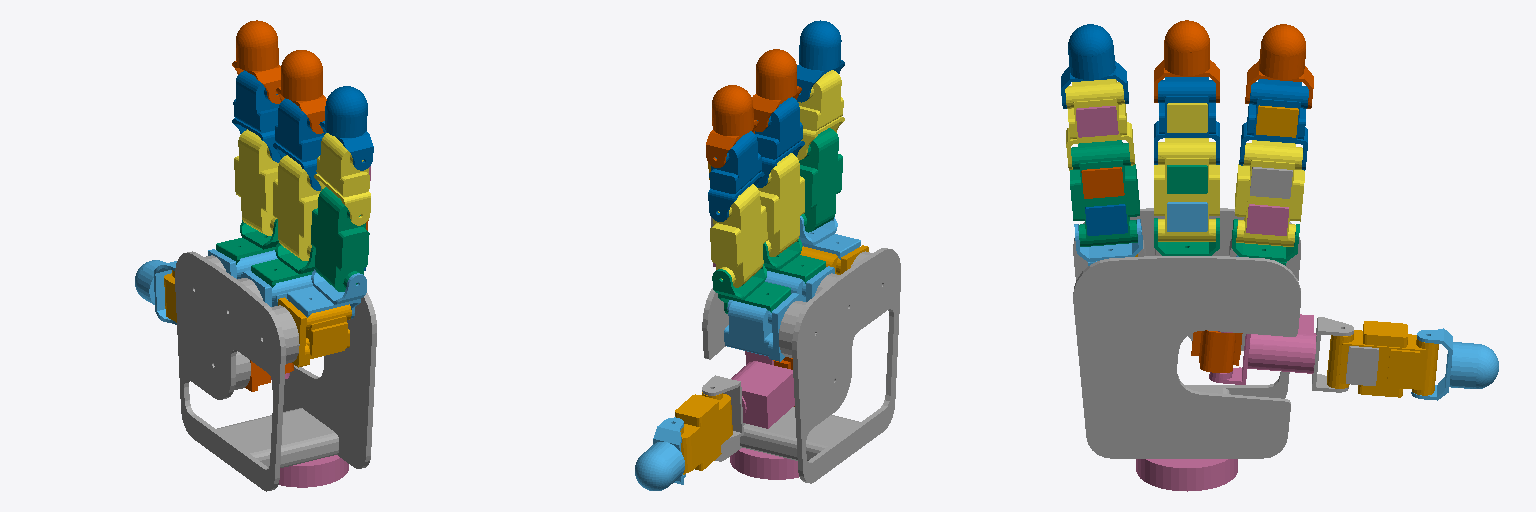
--- What the picture shows (computed from the rendered views, not written in the file) ---
3 views of the same robot in one strip: view 1: azimuth 30°, elevation 25°; view 2: azimuth 150°, elevation 25°; view 3: azimuth 270°, elevation 25° (orthographic).
Model kistar_hand with 34 links and 33 joints (16 revolute, 17 fixed), rooted at kistar_hand, posed all joints at 0.
Visible links, largest first — view 1: palm, ring_link_1, middle_link_1, index_link_1, ring_link_2, ring_tip, ring_basemotor, middle_tip, index_tip, middle_link_2, index_link_2, ring_link_0 (+6 smaller); view 2: palm, index_link_1, thumb_link_2, thumb_link_0, middle_link_1, ring_link_1, index_basemotor, index_link_2, index_tip, thumb_tip, middle_tip, ring_tip (+9 smaller); view 3: palm, thumb_link_2, ring_link_1, index_link_1, middle_link_1, thumb_link_0, thumb_tip, index_tip, ring_tip, middle_tip, mount, ring_link_2 (+18 smaller).
Boxes of the visible links, x1,y1,x2,y2 form: palm: (175, 251, 376, 491); ring_link_1: (311, 187, 369, 291); middle_link_1: (273, 155, 320, 260); index_link_1: (234, 129, 278, 235); ring_link_2: (314, 133, 370, 225); ring_tip: (319, 86, 373, 170); ring_basemotor: (278, 297, 351, 367); middle_tip: (275, 50, 326, 133); index_tip: (232, 20, 280, 103); middle_link_2: (273, 98, 323, 190); index_link_2: (232, 70, 280, 162); ring_link_0: (287, 269, 366, 318); palm: (702, 248, 900, 483); index_link_1: (710, 184, 767, 287); thumb_link_2: (675, 392, 732, 474); thumb_link_0: (731, 351, 794, 428); middle_link_1: (758, 153, 804, 256); ring_link_1: (799, 128, 842, 232); index_basemotor: (724, 293, 799, 361); index_link_2: (708, 131, 764, 221); index_tip: (706, 85, 759, 167); thumb_tip: (635, 417, 685, 490); middle_tip: (752, 49, 801, 131); ring_tip: (797, 20, 844, 102); palm: (1073, 208, 1300, 458); thumb_link_2: (1327, 321, 1438, 397); ring_link_1: (1070, 140, 1139, 246); index_link_1: (1235, 140, 1304, 246); middle_link_1: (1154, 138, 1219, 241); thumb_link_0: (1209, 314, 1316, 384); thumb_tip: (1411, 328, 1498, 400); index_tip: (1245, 24, 1313, 108); ring_tip: (1061, 24, 1128, 108); middle_tip: (1154, 20, 1219, 102); mount: (1136, 459, 1237, 491); ring_link_2: (1065, 79, 1134, 170).
Bounding box of the posed robot: 0.056 × 0.1721 × 0.1938 m (x, y, z).
33 mesh visuals loaded from 33 distinct referenced files (33 OBJ).

robot.urdf — kistar_hand:
<?xml version="1.0" encoding="UTF-8"?>
<robot name="kistar_hand" xmlns:xacro="http://www.ros.org/wiki/xacro">
  <link name="kistar_hand"/>
  <joint name="index_base_joint" type="fixed">
    <origin xyz="0. 0.02883 -0.00126" rpy="-0.0873 0. 0. "/>
    <parent link="palm"/>
    <child link="index_basemotor"/>
  </joint>
  <joint name="index_joint_0" type="revolute">
    <origin xyz="0.02325 0. 0.0047 " rpy="0.0000013 0. 0. "/>
    <parent link="index_basemotor"/>
    <child link="index_link_0"/>
    <axis xyz="1. 0. 0."/>
    <limit lower="-0.261799" upper="0.261799" effort="0.2" velocity="6.283"/>
  </joint>
  <joint name="index_joint_1" type="revolute">
    <origin xyz="0.002 0. 0.019" rpy="0. 0. 0."/>
    <parent link="index_link_0"/>
    <child link="index_link_1"/>
    <axis xyz="0. 1. 0."/>
    <limit lower="0." upper="1.5707999" effort="0.2" velocity="6.283"/>
  </joint>
  <joint name="index_joint_2" type="revolute">
    <origin xyz="0. 0. 0.0335" rpy="0. 0. 0."/>
    <parent link="index_link_1"/>
    <child link="index_link_2"/>
    <axis xyz="0. 1. 0."/>
    <limit lower="0." upper="1.5707999" effort="0.2" velocity="6.283"/>
  </joint>
  <joint name="index_joint_3" type="revolute">
    <origin xyz="0. 0. 0.0267" rpy="0. 0. 0."/>
    <parent link="index_link_2"/>
    <child link="index_tip"/>
    <axis xyz="0. 1. 0."/>
    <limit lower="0." upper="1.5707999" effort="0.2" velocity="6.283"/>
  </joint>
  <joint name="index_link_1_index_sensor_0" type="fixed">
    <origin xyz="0.00525 0. 0.00865" rpy="0. 0. 0."/>
    <parent link="index_link_1"/>
    <child link="kistar_hand_index_sensor_0"/>
  </joint>
  <joint name="index_link_1_index_sensor_1" type="fixed">
    <origin xyz="0.00525 0. 0.02485" rpy="0. 0. 0."/>
    <parent link="index_link_1"/>
    <child link="kistar_hand_index_sensor_1"/>
  </joint>
  <joint name="index_link_2_index_sensor_2" type="fixed">
    <origin xyz="0.00525 0. 0.01805" rpy="0. 0. 0."/>
    <parent link="index_link_2"/>
    <child link="kistar_hand_index_sensor_2"/>
  </joint>
  <joint name="kistar_mount_joint" type="fixed">
    <origin xyz="-0.02325 0. 0.071 " rpy="0. 0. 0."/>
    <!-- <origin xyz="-0.01 0. 0.071 " rpy="0. 0. 0."/> -->
    <parent link="mount"/>
    <child link="palm"/>
  </joint>
  <joint name="middle_base_joint" type="fixed">
    <origin xyz="0. 0. 0." rpy="0. 0. 0."/>
    <parent link="palm"/>
    <child link="middle_basemotor"/>
  </joint>
  <joint name="middle_joint_0" type="revolute">
    <origin xyz="0.02325 0. 0.0047 " rpy="0. 0. 0."/>
    <parent link="middle_basemotor"/>
    <child link="middle_link_0"/>
    <axis xyz="1. 0. 0."/>
    <limit lower="-0.261799" upper="0.261799" effort="0.2" velocity="6.283"/>
  </joint>
  <joint name="middle_joint_1" type="revolute">
    <origin xyz="0.002 0. 0.019" rpy="0. 0. 0."/>
    <parent link="middle_link_0"/>
    <child link="middle_link_1"/>
    <axis xyz="0. 1. 0."/>
    <limit lower="0." upper="1.5707999" effort="0.2" velocity="6.283"/>
  </joint>
  <joint name="middle_joint_2" type="revolute">
    <origin xyz="0. 0. 0.0335" rpy="0. 0. 0."/>
    <parent link="middle_link_1"/>
    <child link="middle_link_2"/>
    <axis xyz="0. 1. 0."/>
    <limit lower="0." upper="1.5707999" effort="0.2" velocity="6.283"/>
  </joint>
  <joint name="middle_joint_3" type="revolute">
    <origin xyz="0. 0. 0.0267" rpy="0. 0. 0."/>
    <parent link="middle_link_2"/>
    <child link="middle_tip"/>
    <axis xyz="0. 1. 0."/>
    <limit lower="0." upper="1.5707999" effort="0.2" velocity="6.283"/>
  </joint>
  <joint name="middle_link_1_middle_sensor_0" type="fixed">
    <origin xyz="0.00525 0. 0.00865" rpy="0. 0. 0."/>
    <parent link="middle_link_1"/>
    <child link="kistar_hand_middle_sensor_0"/>
  </joint>
  <joint name="middle_link_1_middle_sensor_1" type="fixed">
    <origin xyz="0.00525 0. 0.02485" rpy="0. 0. 0."/>
    <parent link="middle_link_1"/>
    <child link="kistar_hand_middle_sensor_1"/>
  </joint>
  <joint name="middle_link_2_middle_sensor_2" type="fixed">
    <origin xyz="0.00525 0. 0.01805" rpy="0. 0. 0."/>
    <parent link="middle_link_2"/>
    <child link="kistar_hand_middle_sensor_2"/>
  </joint>
  <joint name="ring_base_joint" type="fixed">
    <origin xyz="0. -0.02883 -0.00126" rpy="0.0873 0. 0. "/>
    <parent link="palm"/>
    <child link="ring_basemotor"/>
  </joint>
  <joint name="ring_joint_0" type="revolute">
    <origin xyz="0.02325 -0. 0.0047 " rpy="-0.0000013 0. 0. "/>
    <parent link="ring_basemotor"/>
    <child link="ring_link_0"/>
    <axis xyz="1. 0. 0."/>
    <limit lower="-0.261799" upper="0.261799" effort="0.2" velocity="6.283"/>
  </joint>
  <joint name="ring_joint_1" type="revolute">
    <origin xyz="0.002 0. 0.019" rpy="0. 0. 0."/>
    <parent link="ring_link_0"/>
    <child link="ring_link_1"/>
    <axis xyz="0. 1. 0."/>
    <limit lower="0." upper="1.5707999" effort="0.2" velocity="6.283"/>
  </joint>
  <joint name="ring_joint_2" type="revolute">
    <origin xyz="0. -0. 0.0335" rpy="0. 0. 0."/>
    <parent link="ring_link_1"/>
    <child link="ring_link_2"/>
    <axis xyz="0. 1. 0."/>
    <limit lower="0." upper="1.5707999" effort="0.2" velocity="6.283"/>
  </joint>
  <joint name="ring_joint_3" type="revolute">
    <origin xyz="0. -0. 0.0267" rpy="0. 0. 0."/>
    <parent link="ring_link_2"/>
    <child link="ring_tip"/>
    <axis xyz="0. 1. 0."/>
    <limit lower="0." upper="1.5707999" effort="0.2" velocity="6.283"/>
  </joint>
  <joint name="ring_link_1_ring_sensor_0" type="fixed">
    <origin xyz="0.00525 -0. 0.00865" rpy="0. 0. 0."/>
    <parent link="ring_link_1"/>
    <child link="kistar_hand_ring_sensor_0"/>
  </joint>
  <joint name="ring_link_1_ring_sensor_1" type="fixed">
    <origin xyz="0.00525 -0. 0.02485" rpy="0. 0. 0."/>
    <parent link="ring_link_1"/>
    <child link="kistar_hand_ring_sensor_1"/>
  </joint>
  <joint name="ring_link_2_ring_sensor_2" type="fixed">
    <origin xyz="0.00525 -0. 0.01805" rpy="0. 0. 0."/>
    <parent link="ring_link_2"/>
    <child link="kistar_hand_ring_sensor_2"/>
  </joint>
  <joint name="root_joint" type="fixed">
    <origin xyz="0. 0. 0." rpy="0. 0. 0."/>
    <parent link="kistar_hand"/>
    <child link="mount"/>
  </joint>
  <joint name="thumb_base_joint" type="fixed">
    <origin xyz="0. 0.01224 -0.02988" rpy="-0.0873 0. 0. "/>
    <parent link="palm"/>
    <child link="thumb_basemotor"/>
  </joint>
  <joint name="thumb_joint_0" type="revolute">
    <origin xyz="0.0197 0.002 0. " rpy="-1.5707986 0. 0. "/>
    <parent link="thumb_basemotor"/>
    <child link="thumb_link_0"/>
    <axis xyz="0. 1. 0."/>
    <limit lower="0." upper="1.5707999" effort="0.2" velocity="6.283"/>
  </joint>
  <joint name="thumb_joint_1" type="revolute">
    <origin xyz="-0.002 0. 0.036" rpy="-0.0000013 0. 0. "/>
    <parent link="thumb_link_0"/>
    <child link="thumb_link_1"/>
    <axis xyz="0. 0. 1."/>
    <limit lower="-1.5707999" upper="1.5707999" effort="0.2" velocity="6.283"/>
  </joint>
  <joint name="thumb_joint_2" type="revolute">
    <origin xyz="0.002 -0. 0.0102" rpy="0. 0. 0."/>
    <parent link="thumb_link_1"/>
    <child link="thumb_link_2"/>
    <axis xyz="0. 1. 0."/>
    <limit lower="0." upper="1.5707999" effort="0.2" velocity="6.283"/>
  </joint>
  <joint name="thumb_joint_3" type="revolute">
    <origin xyz="0. 0. 0.0335" rpy="0. 0. 0."/>
    <parent link="thumb_link_2"/>
    <child link="thumb_tip"/>
    <axis xyz="0. 1. 0."/>
    <limit lower="0." upper="1.5707999" effort="0.2" velocity="6.283"/>
  </joint>
  <joint name="thumb_link_2_thumb_sensor_0" type="fixed">
    <origin xyz="0.00525 0. 0.00865" rpy="0. 0. 0."/>
    <parent link="thumb_link_2"/>
    <child link="kistar_hand_thumb_sensor_0"/>
  </joint>
  <joint name="thumb_link_2_thumb_sensor_1" type="fixed">
    <origin xyz="0.00525 0. 0.02485" rpy="0. 0. 0."/>
    <parent link="thumb_link_2"/>
    <child link="kistar_hand_thumb_sensor_1"/>
  </joint>
  <link name="index_basemotor">
    <inertial>
      <origin xyz="0.01338 0.00095 -0.00207" rpy="0. 0. 0."/>
      <mass value="0.01904"/>
      <inertia ixx="0.0000012" ixy="0.0000003" ixz="-0.0000006" iyy="0.0000055" iyz="-0." izz="0.0000051"/>
    </inertial>
    <visual>
      <origin xyz="0. -0. 0." rpy="0.0000013 0. 0. "/>
      <geometry>
        <mesh filename="meshes/index_basemotor_visuals.obj" scale="1. 1. 1."/>
      </geometry>
    </visual>
    <!-- <collision>
      <origin xyz="0. -0. 0." rpy="0.0000013 0. 0. "/>
      <geometry>
        <mesh filename="meshes/index_basemotor_collisions.obj" scale="1. 1. 1."/>
      </geometry> -->
    <!-- </collision> -->
  </link>
  <link name="index_link_0">
    <inertial>
      <origin xyz="-0.00353 0. 0.00948" rpy="0. 0. 0."/>
      <mass value="0.00473"/>
      <inertia ixx="0.0000008" ixy="0." ixz="-0.0000001" iyy="0.0000009" iyz="0." izz="0.0000006"/>
    </inertial>
    <visual>
      <origin xyz="0. 0. 0." rpy="0. 0. 0."/>
      <geometry>
        <mesh filename="meshes/index_link_0_visuals.obj" scale="1. 1. 1."/>
      </geometry>
    </visual>
    <!-- <collision>
      <origin xyz="0. 0. 0." rpy="0. 0. 0."/>
      <geometry>
        <mesh filename="meshes/index_link_0_collisions.obj" scale="1. 1. 1."/>
      </geometry>
    </collision> -->
  </link>
  <link name="index_link_1">
    <inertial>
      <origin xyz="-0.00166 0. 0.01675" rpy="0. 0. 0."/>
      <mass value="0.03549"/>
      <inertia ixx="0.0000161" ixy="0." ixz="-0.000001" iyy="0.0000151" iyz="0." izz="0.0000022"/>
    </inertial>
    <visual>
      <origin xyz="0. 0. 0." rpy="0. 0. 0."/>
      <geometry>
        <mesh filename="meshes/index_link_1_visuals.obj" scale="1. 1. 1."/>
      </geometry>
    </visual>
    <collision>
      <origin xyz="0. 0. 0." rpy="0. 0. 0."/>
      <geometry>
        <mesh filename="meshes/index_link_1_collisions.obj" scale="1. 1. 1."/>
      </geometry>
    </collision>
  </link>
  <link name="index_link_2">
    <inertial>
      <origin xyz="-0.00154 0.00021 0.01842" rpy="0. 0. 0."/>
      <mass value="0.01827"/>
      <inertia ixx="0.000008" ixy="-0." ixz="-0.0000005" iyy="0.0000075" iyz="0." izz="0.0000011"/>
    </inertial>
    <visual>
      <origin xyz="0. 0. 0." rpy="0. 0. 0."/>
      <geometry>
        <mesh filename="meshes/index_link_2_visuals.obj" scale="1. 1. 1."/>
      </geometry>
    </visual>
    <collision>
      <origin xyz="0. 0. 0." rpy="0. 0. 0."/>
      <geometry>
        <mesh filename="meshes/index_link_2_collisions.obj" scale="1. 1. 1."/>
      </geometry>
    </collision>
  </link>
  <link name="index_tip">
    <inertial>
      <origin xyz="-0.0019 0. 0.01626" rpy="0. 0. 0."/>
      <mass value="0.00719"/>
      <inertia ixx="0.0000024" ixy="0." ixz="-0.0000002" iyy="0.0000024" iyz="0." izz="0.0000004"/>
    </inertial>
    <visual>
      <origin xyz="0. 0. -0." rpy="0. 0. 0."/>
      <geometry>
        <mesh filename="meshes/index_tip_visuals.obj" scale="1. 1. 1."/>
      </geometry>
    </visual>
    <collision>
      <origin xyz="0. 0. -0." rpy="0. 0. 0."/>
      <geometry>
        <mesh filename="meshes/index_tip_collisions.obj" scale="1. 1. 1."/>
      </geometry>
    </collision>
  </link>
  <link name="kistar_hand_index_sensor_0">
    <visual>
      <origin xyz="0. 0. -0." rpy="0. 0. 0."/>
      <geometry>
        <mesh filename="meshes/kistar_hand_index_sensor_0_visuals.obj" scale="1. 1. 1."/>
      </geometry>
    </visual>
    <collision>
      <origin xyz="0. 0. -0." rpy="0. 0. 0."/>
      <geometry>
        <mesh filename="meshes/kistar_hand_index_sensor_0_collisions.obj" scale="1. 1. 1."/>
      </geometry>
    </collision>
  </link>
  <link name="kistar_hand_index_sensor_1">
    <visual>
      <origin xyz="0. 0. 0." rpy="0. 0. 0."/>
      <geometry>
        <mesh filename="meshes/kistar_hand_index_sensor_1_visuals.obj" scale="1. 1. 1."/>
      </geometry>
    </visual>
    <collision>
      <origin xyz="0. 0. 0." rpy="0. 0. 0."/>
      <geometry>
        <mesh filename="meshes/kistar_hand_index_sensor_1_collisions.obj" scale="1. 1. 1."/>
      </geometry>
    </collision>
  </link>
  <link name="kistar_hand_index_sensor_2">
    <visual>
      <origin xyz="0. 0. -0." rpy="0. 0. 0."/>
      <geometry>
        <mesh filename="meshes/kistar_hand_index_sensor_2_visuals.obj" scale="1. 1. 1."/>
      </geometry>
    </visual>
    <collision>
      <origin xyz="0. 0. -0." rpy="0. 0. 0."/>
      <geometry>
        <mesh filename="meshes/kistar_hand_index_sensor_2_collisions.obj" scale="1. 1. 1."/>
      </geometry>
    </collision>
  </link>
  <link name="kistar_hand_middle_sensor_0">
    <visual>
      <origin xyz="0. 0. 0." rpy="0. 0. 0."/>
      <geometry>
        <mesh filename="meshes/kistar_hand_middle_sensor_0_visuals.obj" scale="1. 1. 1."/>
      </geometry>
    </visual>
    <collision>
      <origin xyz="0. 0. 0." rpy="0. 0. 0."/>
      <geometry>
        <mesh filename="meshes/kistar_hand_middle_sensor_0_collisions.obj" scale="1. 1. 1."/>
      </geometry>
    </collision>
  </link>
  <link name="kistar_hand_middle_sensor_1">
    <visual>
      <origin xyz="0. 0. 0." rpy="0. 0. 0."/>
      <geometry>
        <mesh filename="meshes/kistar_hand_middle_sensor_1_visuals.obj" scale="1. 1. 1."/>
      </geometry>
    </visual>
    <collision>
      <origin xyz="0. 0. 0." rpy="0. 0. 0."/>
      <geometry>
        <mesh filename="meshes/kistar_hand_middle_sensor_1_collisions.obj" scale="1. 1. 1."/>
      </geometry>
    </collision>
  </link>
  <link name="kistar_hand_middle_sensor_2">
    <visual>
      <origin xyz="0. 0. 0." rpy="0. 0. 0."/>
      <geometry>
        <mesh filename="meshes/kistar_hand_middle_sensor_2_visuals.obj" scale="1. 1. 1."/>
      </geometry>
    </visual>
    <collision>
      <origin xyz="0. 0. 0." rpy="0. 0. 0."/>
      <geometry>
        <mesh filename="meshes/kistar_hand_middle_sensor_2_collisions.obj" scale="1. 1. 1."/>
      </geometry>
    </collision>
  </link>
  <link name="kistar_hand_ring_sensor_0">
    <visual>
      <origin xyz="0. -0. -0." rpy="0. 0. 0."/>
      <geometry>
        <mesh filename="meshes/kistar_hand_ring_sensor_0_visuals.obj" scale="1. 1. 1."/>
      </geometry>
    </visual>
    <collision>
      <origin xyz="0. -0. -0." rpy="0. 0. 0."/>
      <geometry>
        <mesh filename="meshes/kistar_hand_ring_sensor_0_collisions.obj" scale="1. 1. 1."/>
      </geometry>
    </collision>
  </link>
  <link name="kistar_hand_ring_sensor_1">
    <visual>
      <origin xyz="0. -0. 0." rpy="0. 0. 0."/>
      <geometry>
        <mesh filename="meshes/kistar_hand_ring_sensor_1_visuals.obj" scale="1. 1. 1."/>
      </geometry>
    </visual>
    <collision>
      <origin xyz="0. -0. 0." rpy="0. 0. 0."/>
      <geometry>
        <mesh filename="meshes/kistar_hand_ring_sensor_1_collisions.obj" scale="1. 1. 1."/>
      </geometry>
    </collision>
  </link>
  <link name="kistar_hand_ring_sensor_2">
    <visual>
      <origin xyz="0. -0. -0." rpy="0. 0. 0."/>
      <geometry>
        <mesh filename="meshes/kistar_hand_ring_sensor_2_visuals.obj" scale="1. 1. 1."/>
      </geometry>
    </visual>
    <collision>
      <origin xyz="0. -0. -0." rpy="0. 0. 0."/>
      <geometry>
        <mesh filename="meshes/kistar_hand_ring_sensor_2_collisions.obj" scale="1. 1. 1."/>
      </geometry>
    </collision>
  </link>
  <link name="kistar_hand_thumb_sensor_0">
    <visual>
      <origin xyz="0. 0. 0." rpy="0. 0. 0."/>
      <geometry>
        <mesh filename="meshes/kistar_hand_thumb_sensor_0_visuals.obj" scale="1. 1. 1."/>
      </geometry>
    </visual>
    <collision>
      <origin xyz="0. 0. 0." rpy="0. 0. 0."/>
      <geometry>
        <mesh filename="meshes/kistar_hand_thumb_sensor_0_collisions.obj" scale="1. 1. 1."/>
      </geometry>
    </collision>
  </link>
  <link name="kistar_hand_thumb_sensor_1">
    <visual>
      <origin xyz="0. 0. 0." rpy="0. 0. 0."/>
      <geometry>
        <mesh filename="meshes/kistar_hand_thumb_sensor_1_visuals.obj" scale="1. 1. 1."/>
      </geometry>
    </visual>
    <collision>
      <origin xyz="0. 0. 0." rpy="0. 0. 0."/>
      <geometry>
        <mesh filename="meshes/kistar_hand_thumb_sensor_1_collisions.obj" scale="1. 1. 1."/>
      </geometry>
    </collision>
  </link>
  <link name="middle_basemotor">
    <inertial>
      <origin xyz="0.01338 0.00095 -0.00207" rpy="0. 0. 0."/>
      <mass value="0.01904"/>
      <inertia ixx="0.0000012" ixy="0.0000003" ixz="-0.0000006" iyy="0.0000055" iyz="-0." izz="0.0000051"/>
    </inertial>
    <visual>
      <origin xyz="0. 0. 0." rpy="0. 0. 0."/>
      <geometry>
        <mesh filename="meshes/middle_basemotor_visuals.obj" scale="1. 1. 1."/>
      </geometry>
    </visual>
    <collision>
      <origin xyz="0. 0. 0." rpy="0. 0. 0."/>
      <geometry>
        <mesh filename="meshes/middle_basemotor_collisions.obj" scale="1. 1. 1."/>
      </geometry>
    </collision>
  </link>
  <link name="middle_link_0">
    <inertial>
      <origin xyz="-0.00353 0. 0.00948" rpy="0. 0. 0."/>
      <mass value="0.00473"/>
      <inertia ixx="0.0000008" ixy="0." ixz="-0.0000001" iyy="0.0000009" iyz="0." izz="0.0000006"/>
    </inertial>
    <visual>
      <origin xyz="0. 0. 0." rpy="0. 0. 0."/>
      <geometry>
        <mesh filename="meshes/middle_link_0_visuals.obj" scale="1. 1. 1."/>
      </geometry>
    </visual>
    <collision>
      <origin xyz="0. 0. 0." rpy="0. 0. 0."/>
      <geometry>
        <mesh filename="meshes/middle_link_0_collisions.obj" scale="1. 1. 1."/>
      </geometry>
    </collision>
  </link>
  <link name="middle_link_1">
    <inertial>
      <origin xyz="-0.00166 0. 0.01675" rpy="0. 0. 0."/>
      <mass value="0.03549"/>
      <inertia ixx="0.0000161" ixy="0." ixz="-0.000001" iyy="0.0000151" iyz="0." izz="0.0000022"/>
    </inertial>
    <visual>
      <origin xyz="0. 0. 0." rpy="0. 0. 0."/>
      <geometry>
        <mesh filename="meshes/middle_link_1_visuals.obj" scale="1. 1. 1."/>
      </geometry>
    </visual>
    <collision>
      <origin xyz="0. 0. 0." rpy="0. 0. 0."/>
      <geometry>
        <mesh filename="meshes/middle_link_1_collisions.obj" scale="1. 1. 1."/>
      </geometry>
    </collision>
  </link>
  <link name="middle_link_2">
    <inertial>
      <origin xyz="-0.00154 0.00021 0.01842" rpy="0. 0. 0."/>
      <mass value="0.01827"/>
      <inertia ixx="0.000008" ixy="-0." ixz="-0.0000005" iyy="0.0000075" iyz="0." izz="0.0000011"/>
    </inertial>
    <visual>
      <origin xyz="0. 0. 0." rpy="0. 0. 0."/>
      <geometry>
        <mesh filename="meshes/middle_link_2_visuals.obj" scale="1. 1. 1."/>
      </geometry>
    </visual>
    <collision>
      <origin xyz="0. 0. 0." rpy="0. 0. 0."/>
      <geometry>
        <mesh filename="meshes/middle_link_2_collisions.obj" scale="1. 1. 1."/>
      </geometry>
    </collision>
  </link>
  <link name="middle_tip">
    <inertial>
      <origin xyz="-0.0019 0. 0.01626" rpy="0. 0. 0."/>
      <mass value="0.00719"/>
      <inertia ixx="0.0000024" ixy="0." ixz="-0.0000002" iyy="0.0000024" iyz="0." izz="0.0000004"/>
    </inertial>
    <visual>
      <origin xyz="0. 0. 0." rpy="0. 0. 0."/>
      <geometry>
        <mesh filename="meshes/middle_tip_visuals.obj" scale="1. 1. 1."/>
      </geometry>
    </visual>
    <collision>
      <origin xyz="0. 0. 0." rpy="0. 0. 0."/>
      <geometry>
        <mesh filename="meshes/middle_tip_collisions.obj" scale="1. 1. 1."/>
      </geometry>
    </collision>
  </link>
  <link name="mount">
    <visual>
      <origin xyz="0. 0. 0." rpy="0. 0. 0."/>
      <geometry>
        <mesh filename="meshes/mount_visuals.obj" scale="1. 1. 1."/>
      </geometry>
    </visual>
    <collision>
      <origin xyz="0. 0. 0." rpy="0. 0. 0."/>
      <geometry>
        <mesh filename="meshes/mount_collisions.obj" scale="1. 1. 1."/>
      </geometry>
    </collision>
  </link>
  <link name="palm">
    <inertial>
      <origin xyz="-0.01669 0.00079 -0.02862" rpy="0. 0. 0."/>
      <mass value="0.15476"/>
      <inertia ixx="0.0003271" ixy="-0.0000105" ixz="0.0000539" iyy="0.000351" iyz="-0.0000034" izz="0.0001632"/>
    </inertial>
    <visual>
      <origin xyz="0. 0. 0." rpy="0. 0. 0."/>
      <geometry>
        <mesh filename="meshes/palm_visuals.obj" scale="1. 1. 1."/>
      </geometry>
    </visual>
    <collision>
      <!-- <origin xyz="0. 0. 0." rpy="0. 0. 45."/> -->
      <origin xyz="0. 0. 0." rpy="0. 0. 0."/>
      <geometry>
        <!-- <mesh filename="meshes/fr3_hand_collisions.obj" scale="5 1.5 3"/> -->
        <mesh filename="meshes/palm_visuals.obj" scale="1 1 1"/>
      </geometry>
    </collision>

  </link>
  <link name="ring_basemotor">
    <inertial>
      <origin xyz="0.01338 0.00095 -0.00207" rpy="0. 0. 0."/>
      <mass value="0.01904"/>
      <inertia ixx="0.0000012" ixy="0.0000003" ixz="-0.0000006" iyy="0.0000055" iyz="-0." izz="0.0000051"/>
    </inertial>
    <visual>
      <origin xyz="0. 0. 0." rpy="-0.0000013 0. 0. "/>
      <geometry>
        <mesh filename="meshes/ring_basemotor_visuals.obj" scale="1. 1. 1."/>
      </geometry>
    </visual>
    <collision>
      <origin xyz="0. 0. 0." rpy="-0.0000013 0. 0. "/>
      <geometry>
        <mesh filename="meshes/ring_basemotor_collisions.obj" scale="1. 1. 1."/>
      </geometry>
    </collision>
  </link>
  <link name="ring_link_0">
    <inertial>
      <origin xyz="-0.00353 0. 0.00948" rpy="0. 0. 0."/>
      <mass value="0.00473"/>
      <inertia ixx="0.0000008" ixy="0." ixz="-0.0000001" iyy="0.0000009" iyz="0." izz="0.0000006"/>
    </inertial>
    <visual>
      <origin xyz="0. 0. 0." rpy="0. 0. 0."/>
      <geometry>
        <mesh filename="meshes/ring_link_0_visuals.obj" scale="1. 1. 1."/>
      </geometry>
    </visual>
    <collision>
      <origin xyz="0. 0. 0." rpy="0. 0. 0."/>
      <geometry>
        <mesh filename="meshes/ring_link_0_collisions.obj" scale="1. 1. 1."/>
      </geometry>
    </collision>
  </link>
  <link name="ring_link_1">
    <inertial>
      <origin xyz="-0.00166 0. 0.01675" rpy="0. 0. 0."/>
      <mass value="0.03549"/>
      <inertia ixx="0.0000161" ixy="0." ixz="-0.000001" iyy="0.0000151" iyz="0." izz="0.0000022"/>
    </inertial>
    <visual>
      <origin xyz="0. -0. 0." rpy="0. 0. 0."/>
      <geometry>
        <mesh filename="meshes/ring_link_1_visuals.obj" scale="1. 1. 1."/>
      </geometry>
    </visual>
    <collision>
      <origin xyz="0. -0. 0." rpy="0. 0. 0."/>
      <geometry>
        <mesh filename="meshes/ring_link_1_collisions.obj" scale="1. 1. 1."/>
      </geometry>
    </collision>
  </link>
  <link name="ring_link_2">
    <inertial>
      <origin xyz="-0.00154 0.00021 0.01842" rpy="0. 0. 0."/>
      <mass value="0.01827"/>
      <inertia ixx="0.000008" ixy="-0." ixz="-0.0000005" iyy="0.0000075" iyz="0." izz="0.0000011"/>
    </inertial>
    <visual>
      <origin xyz="0. -0. 0." rpy="0. 0. 0."/>
      <geometry>
        <mesh filename="meshes/ring_link_2_visuals.obj" scale="1. 1. 1."/>
      </geometry>
    </visual>
    <collision>
      <origin xyz="0. -0. 0." rpy="0. 0. 0."/>
      <geometry>
        <mesh filename="meshes/ring_link_2_collisions.obj" scale="1. 1. 1."/>
      </geometry>
    </collision>
  </link>
  <link name="ring_tip">
    <inertial>
      <origin xyz="-0.0019 0. 0.01626" rpy="0. 0. 0."/>
      <mass value="0.00719"/>
      <inertia ixx="0.0000024" ixy="0." ixz="-0.0000002" iyy="0.0000024" iyz="0." izz="0.0000004"/>
    </inertial>
    <visual>
      <origin xyz="0. -0. -0." rpy="0. 0. 0."/>
      <geometry>
        <mesh filename="meshes/ring_tip_visuals.obj" scale="1. 1. 1."/>
      </geometry>
    </visual>
    <collision>
      <origin xyz="0. -0. -0." rpy="0. 0. 0."/>
      <geometry>
        <mesh filename="meshes/ring_tip_collisions.obj" scale="1. 1. 1."/>
      </geometry>
    </collision>
  </link>
  <link name="thumb_basemotor">
    <inertial>
      <origin xyz="0.01002 0.00044 0. " rpy="0. 0. 0."/>
      <mass value="0.01904"/>
      <inertia ixx="0.0000011" ixy="0.0000001" ixz="0." iyy="0.0000034" iyz="0." izz="0.0000032"/>
    </inertial>
    <visual>
      <origin xyz="0. 0. -0." rpy="0.0000013 0. 0. "/>
      <geometry>
        <mesh filename="meshes/thumb_basemotor_visuals.obj" scale="1. 1. 1."/>
      </geometry>
    </visual>
    <collision>
      <origin xyz="0. 0. -0." rpy="0.0000013 0. 0. "/>
      <geometry>
        <mesh filename="meshes/thumb_basemotor_collisions.obj" scale="1. 1. 1."/>
      </geometry>
    </collision>
  </link>
  <link name="thumb_link_0">
    <inertial>
      <origin xyz="-0.00714 0. 0.02081" rpy="0. 0. 0."/>
      <mass value="0.02423"/>
      <inertia ixx="0.0000132" ixy="0." ixz="-0.0000039" iyy="0.000015" iyz="0." izz="0.0000032"/>
    </inertial>
    <visual>
      <origin xyz="0. 0. 0." rpy="-0.0000013 0. 0. "/>
      <geometry>
        <mesh filename="meshes/thumb_link_0_visuals.obj" scale="1. 1. 1."/>
      </geometry>
    </visual>
    <collision>
      <origin xyz="0. 0. 0." rpy="-0.0000013 0. 0. "/>
      <geometry>
        <mesh filename="meshes/thumb_link_0_collisions.obj" scale="1. 1. 1."/>
      </geometry>
    </collision>
  </link>
  <link name="thumb_link_1">
    <inertial>
      <origin xyz="0.00043 0. 0.00345" rpy="0. 0. 0."/>
      <mass value="0.00191"/>
      <inertia ixx="0.0000002" ixy="0." ixz="0." iyy="0.0000001" iyz="0." izz="0.0000002"/>
    </inertial>
    <visual>
      <origin xyz="0. 0. 0." rpy="0. 0. 0."/>
      <geometry>
        <mesh filename="meshes/thumb_link_1_visuals.obj" scale="1. 1. 1."/>
      </geometry>
    </visual>
    <collision>
      <origin xyz="0. 0. 0." rpy="0. 0. 0."/>
      <geometry>
        <mesh filename="meshes/thumb_link_1_collisions.obj" scale="1. 1. 1."/>
      </geometry>
    </collision>
  </link>
  <link name="thumb_link_2">
    <inertial>
      <origin xyz="-0.00154 0.00021 0.01842" rpy="0. 0. 0."/>
      <mass value="0.01827"/>
      <inertia ixx="0.000008" ixy="-0." ixz="-0.0000005" iyy="0.0000075" iyz="0." izz="0.0000011"/>
    </inertial>
    <visual>
      <origin xyz="0. 0. 0." rpy="0. 0. 0."/>
      <geometry>
        <mesh filename="meshes/thumb_link_2_visuals.obj" scale="1. 1. 1."/>
      </geometry>
    </visual>
    <collision>
      <origin xyz="0. 0. 0." rpy="0. 0. 0."/>
      <geometry>
        <mesh filename="meshes/thumb_link_2_collisions.obj" scale="1. 1. 1."/>
      </geometry>
    </collision>
  </link>
  <link name="thumb_tip">
    <inertial>
      <origin xyz="-0.0019 0. 0.01626" rpy="0. 0. 0."/>
      <mass value="0.00719"/>
      <inertia ixx="0.0000024" ixy="0." ixz="-0.0000002" iyy="0.0000024" iyz="0." izz="0.0000004"/>
    </inertial>
    <visual>
      <origin xyz="0. 0. 0." rpy="0. 0. 0."/>
      <geometry>
        <mesh filename="meshes/thumb_tip_visuals.obj" scale="1. 1. 1."/>
      </geometry>
    </visual>
    <collision>
      <origin xyz="0. 0. 0." rpy="0. 0. 0."/>
      <geometry>
        <mesh filename="meshes/thumb_tip_collisions.obj" scale="1. 1. 1."/>
      </geometry>
    </collision>
  </link>



</robot>
